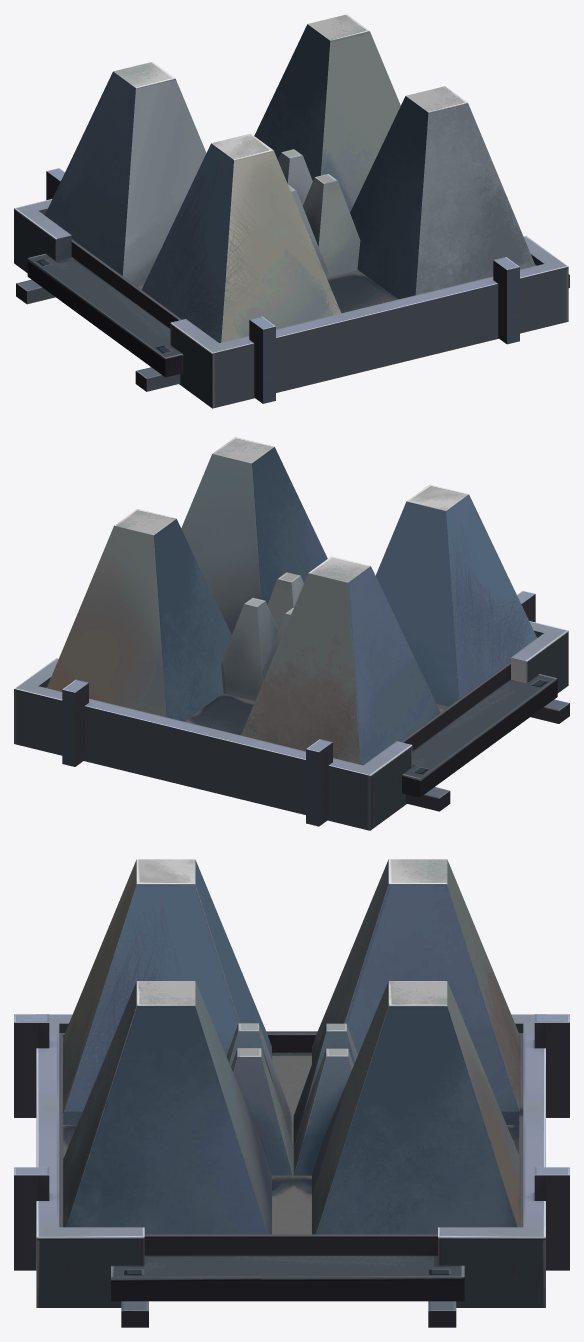
The model's file is trap_272_nomstn.fbx.
The picture shows the model from 3 angles, top to bottom: view 1: azimuth 30°, elevation 25°; view 2: azimuth 150°, elevation 25°; view 3: azimuth 270°, elevation 25°; orthographic projection. The views are drawn at different scales.
Parts seen in each view (by area): view 1: trap_272_nomstn; view 2: trap_272_nomstn; view 3: trap_272_nomstn.
Part boxes in pixels (x1,y1,x2,y2): trap_272_nomstn: (14,14,569,408); trap_272_nomstn: (14,437,569,830); trap_272_nomstn: (14,859,569,1327).
Size of the model in its own units: 1.13 by 0.5244 by 1.
1 material, 1 textured.
